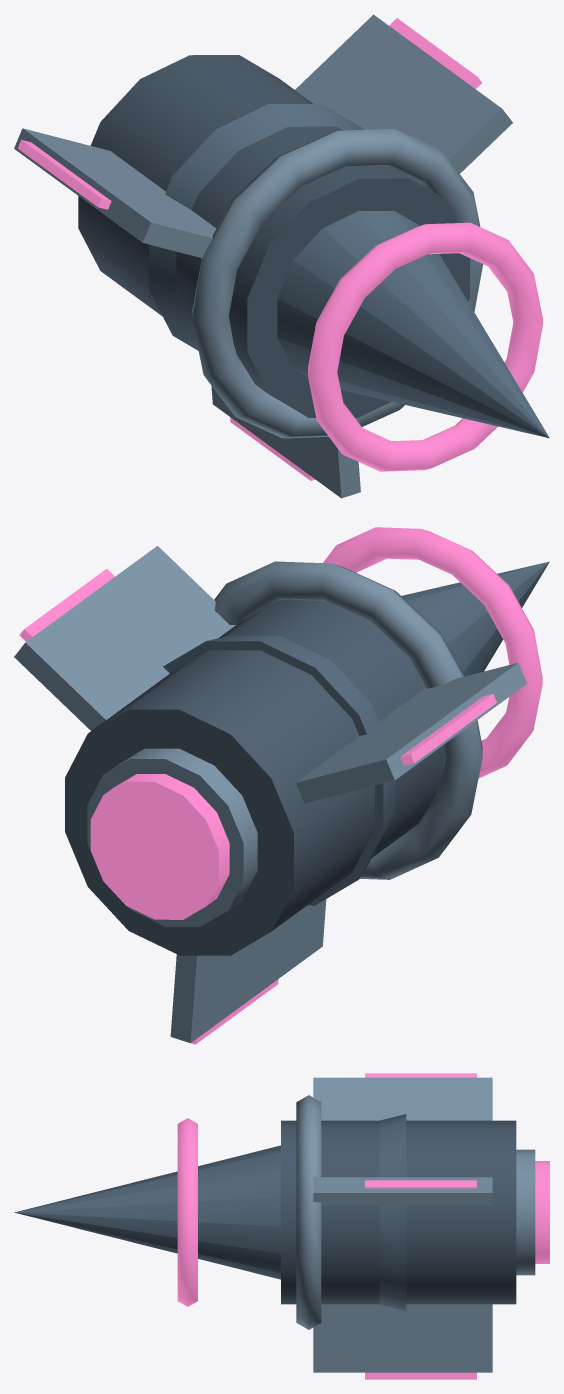
File: rusher.glb
3 views of the same model, one above another, from view 1: azimuth 30°, elevation 25°; view 2: azimuth 150°, elevation 25°; view 3: azimuth 270°, elevation 25° (orthographic). The views are drawn at different scales.
Parts seen in each view (by area): view 1: rusher; view 2: rusher; view 3: rusher.
Part boxes in pixels (<box>): rusher: <box>14,14,549,498</box>; rusher: <box>14,527,549,1044</box>; rusher: <box>14,1073,549,1379</box>.
Size of the model in its own units: 1.38 by 1.31 by 2.39.
